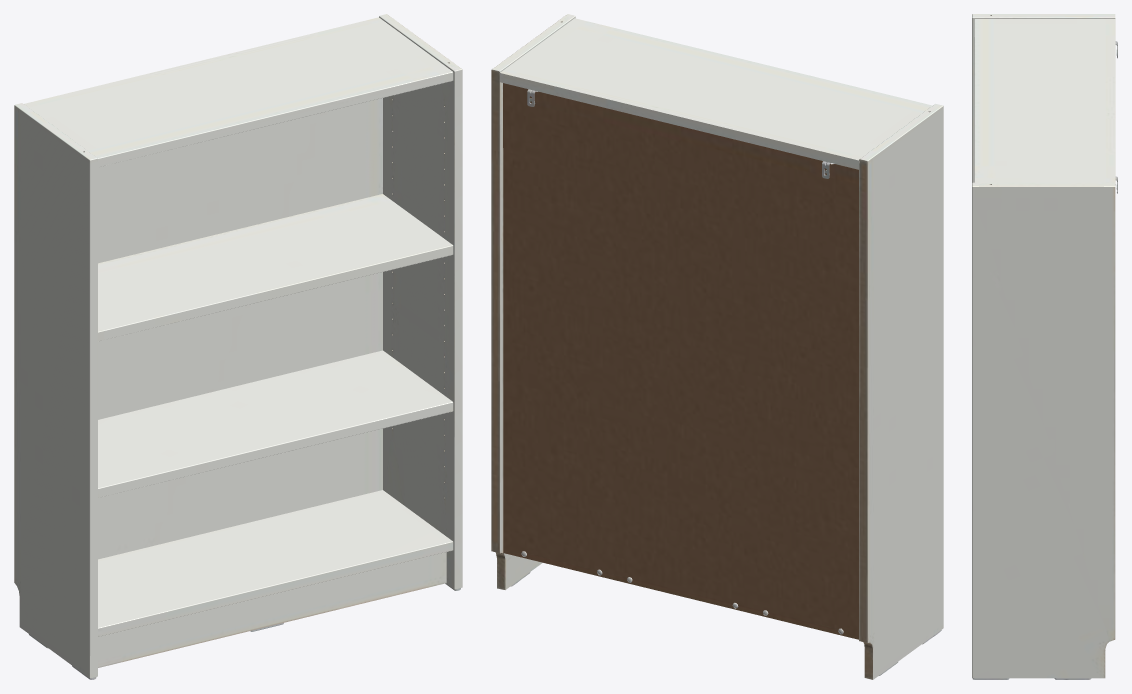
File: BILLY_90522043.glb
The picture shows the model from 3 angles, left to right: view 1: azimuth 30°, elevation 25°; view 2: azimuth 150°, elevation 25°; view 3: azimuth 270°, elevation 25°; orthographic projection. The views are drawn at different scales.
Visible parts, largest first — view 1: model; view 2: model; view 3: model.
Part boxes in pixels (x1,y1,x2,y2): model: [14, 14, 462, 679]; model: [491, 14, 943, 679]; model: [972, 14, 1117, 679].
Bounding box in the file's own units: 0.798 × 1.07 × 0.285.
Materials: 1 (1 with a texture image).
